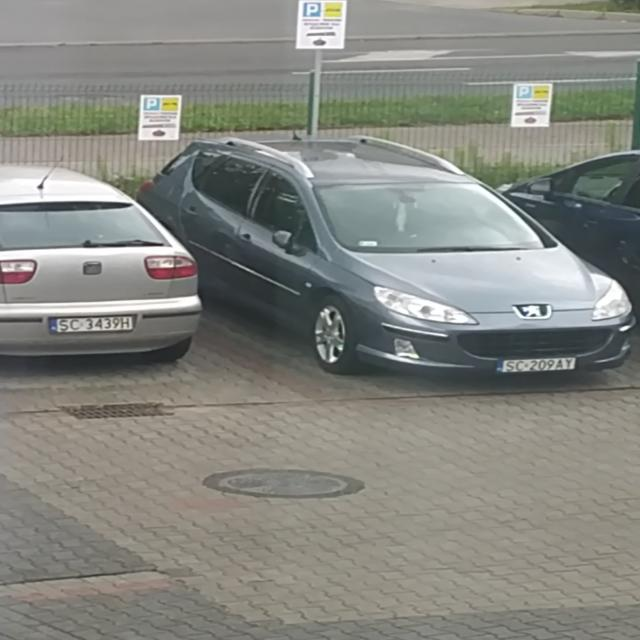pl_license_plate: (49, 316, 132, 332), (496, 357, 575, 372)
